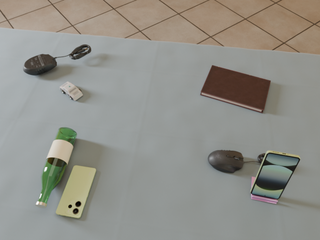book: (200, 65, 271, 113)
bottle: (35, 127, 77, 208)
mouse: (208, 150, 245, 173), (23, 54, 58, 75)
phone: (251, 151, 300, 199), (56, 166, 96, 218)
toy_car: (60, 82, 83, 101)
